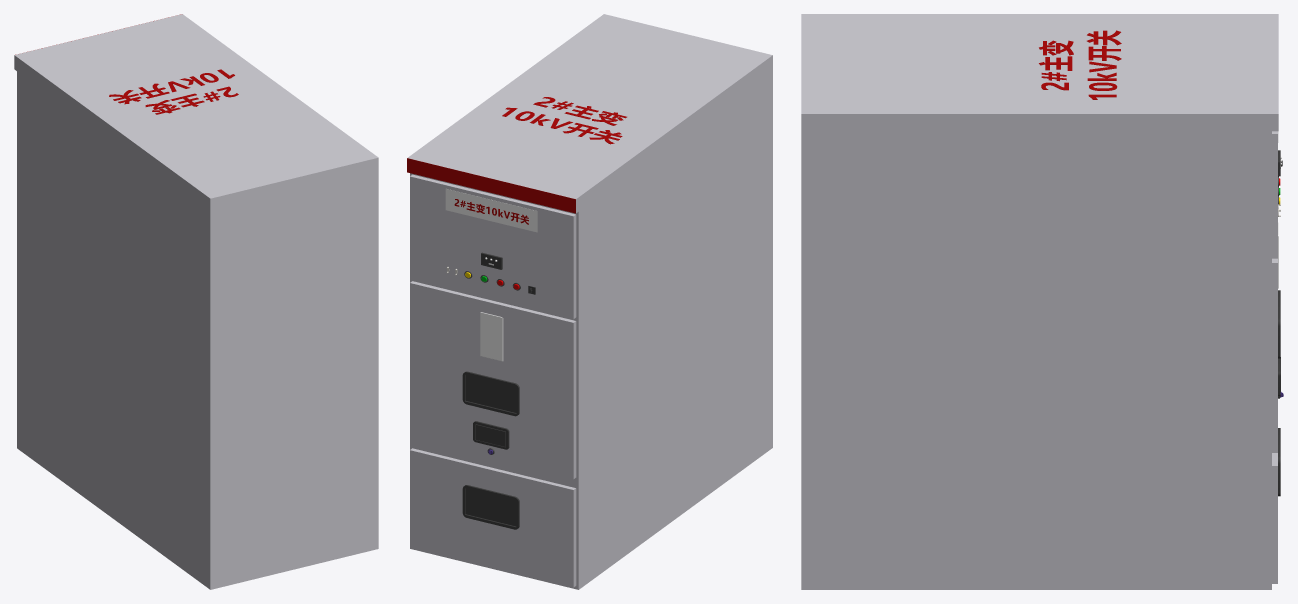
3 views of the same model, side by side, from view 1: azimuth 30°, elevation 25°; view 2: azimuth 150°, elevation 25°; view 3: azimuth 270°, elevation 25° (orthographic). The views are drawn at different scales.
Parts seen in each view (by area): view 1: Rectangle8732, Text338; view 2: Rectangle8732, Rectangle8735, Rectangle8734, Obj3d66_1138023_124_1023, Obj3d66_1138023_124_1022, Rectangle8733, Text338, Obj3d66_1138023_187_690, Obj3d66_1138023_127_205; view 3: Rectangle8732, Rectangle8735, Text338.
Boxes of the visible parts, x1,y1,x2,y2 form: Rectangle8732: (14,14,378,589); Text338: (109,69,238,114); Rectangle8732: (407,14,772,589); Rectangle8735: (410,174,576,587); Rectangle8734: (407,158,575,213); Obj3d66_1138023_124_1023: (462,485,519,529); Obj3d66_1138023_124_1022: (462,371,519,416); Rectangle8733: (445,189,537,232); Text338: (502,97,626,144); Obj3d66_1138023_187_690: (480,312,503,361); Obj3d66_1138023_127_205: (473,421,509,449); Rectangle8732: (801,14,1278,589); Rectangle8735: (1272,131,1277,583); Text338: (1039,30,1121,99).
Size of the model in its own units: 990 by 2201 by 2021.
